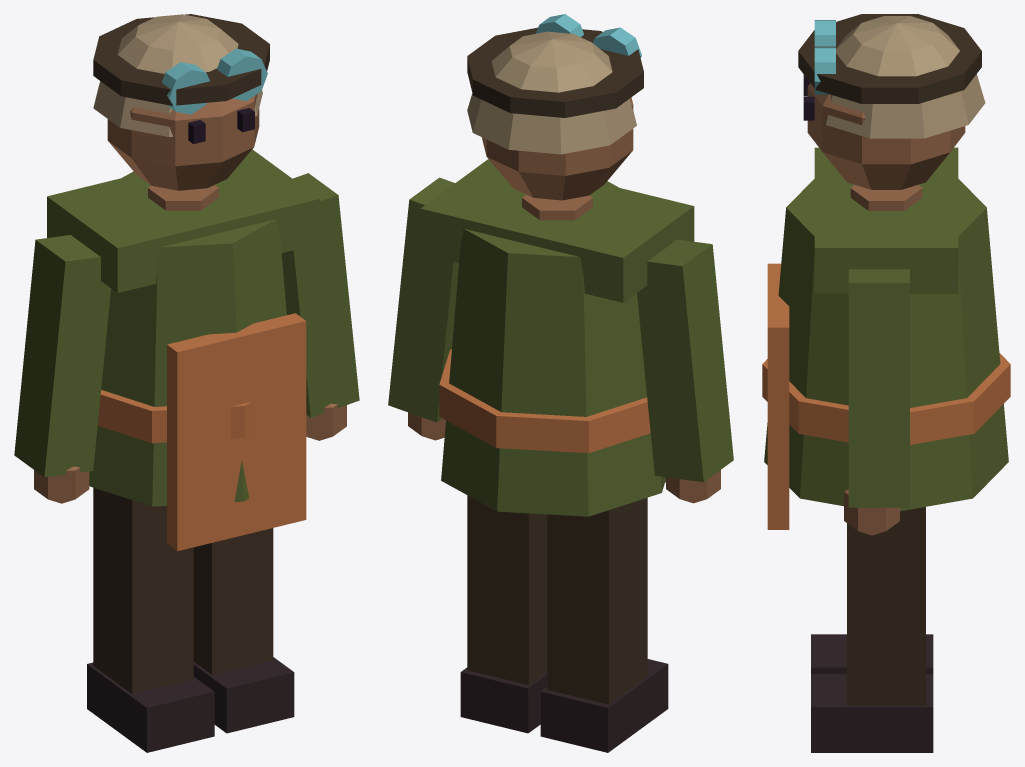
The model's file is person_orrin.gltf.
3 renders of one model, left to right at view 1: azimuth 30°, elevation 25°; view 2: azimuth 150°, elevation 25°; view 3: azimuth 270°, elevation 25°, orthographic.
Visible parts, largest first — view 1: body, face; view 2: body, face; view 3: body, face.
Boxes of the visible parts, x1=… form: body: x1=14, y1=149, x2=359, y2=752; face: x1=93, y1=14, x2=269, y2=190; body: x1=388, y1=159, x2=733, y2=752; face: x1=467, y1=14, x2=643, y2=200; body: x1=762, y1=147, x2=1010, y2=752; face: x1=798, y1=14, x2=985, y2=189.
Size of the model in its own units: 1.03 by 2.12 by 0.69.
